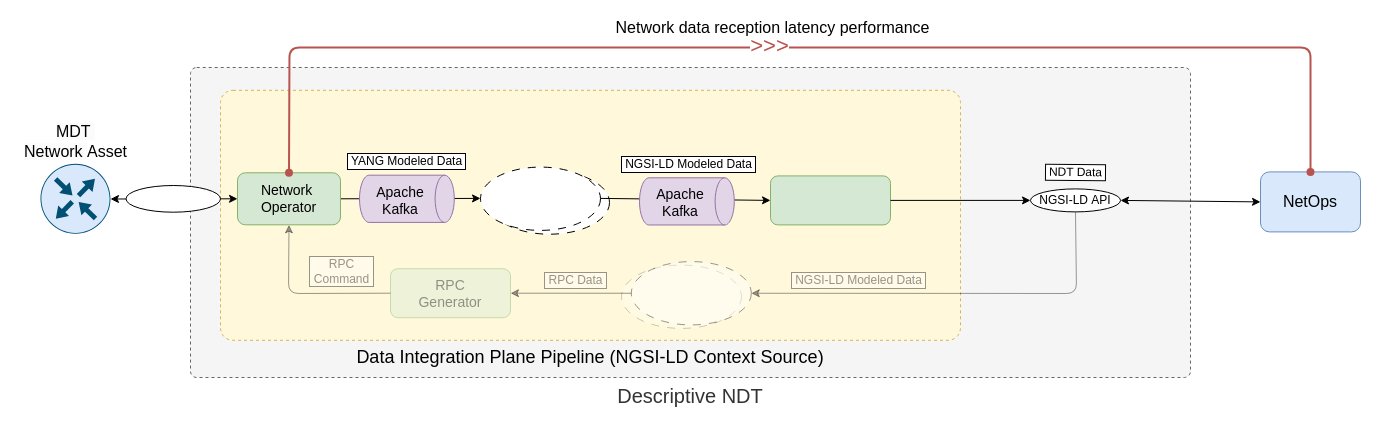
Image size: 1378x425. Some labels were removed from this diagram. Here are the shapes that lost their labels. From the top down, the centre of each, then its label:
At [172,198]: "NETCONF/gNMI".
At [540,198]: "XML/JSON Data Parsers & Mappers".
At [830,200]: "NGSI-LD Instantiator".
At [690,293]: "NGSI-LD Data Parsers & Mappers".
